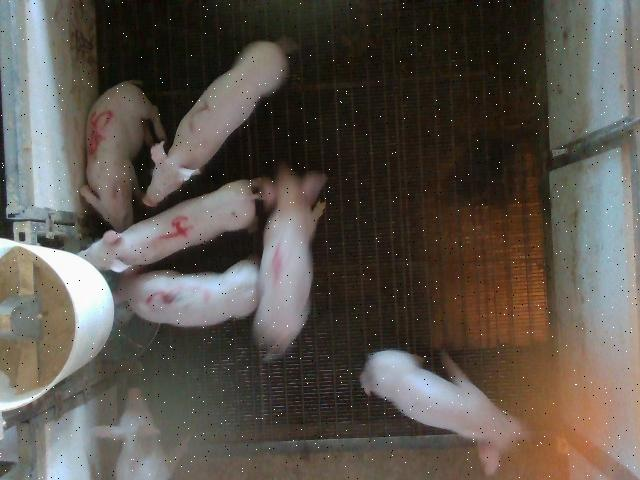pig-1: (252, 165, 326, 355)
pig-2: (142, 41, 288, 206)
pig-3: (115, 259, 259, 327)
pig-4: (79, 181, 264, 272)
pig-5: (80, 81, 165, 231)
